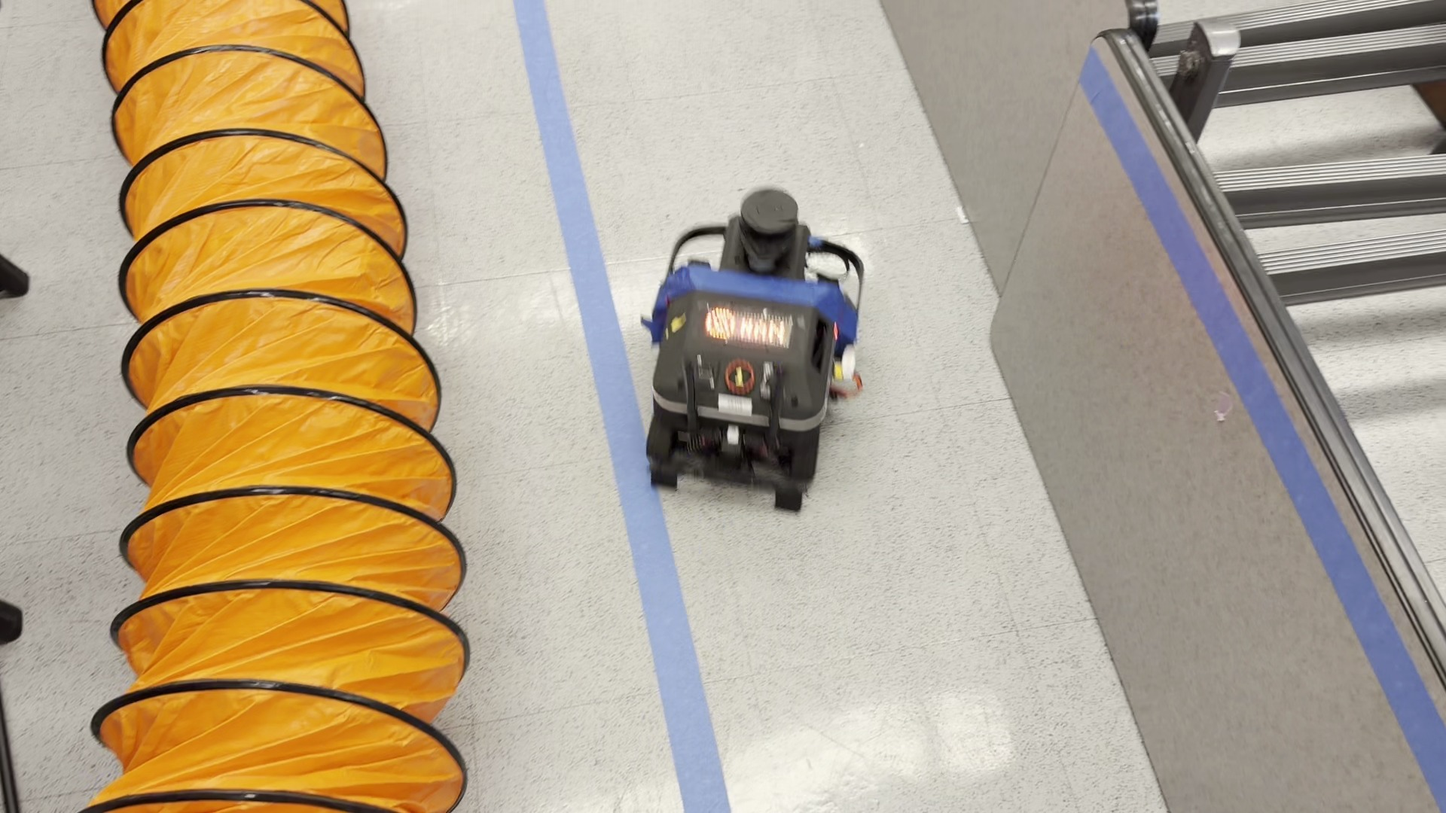racecar: (642, 186, 867, 510)
